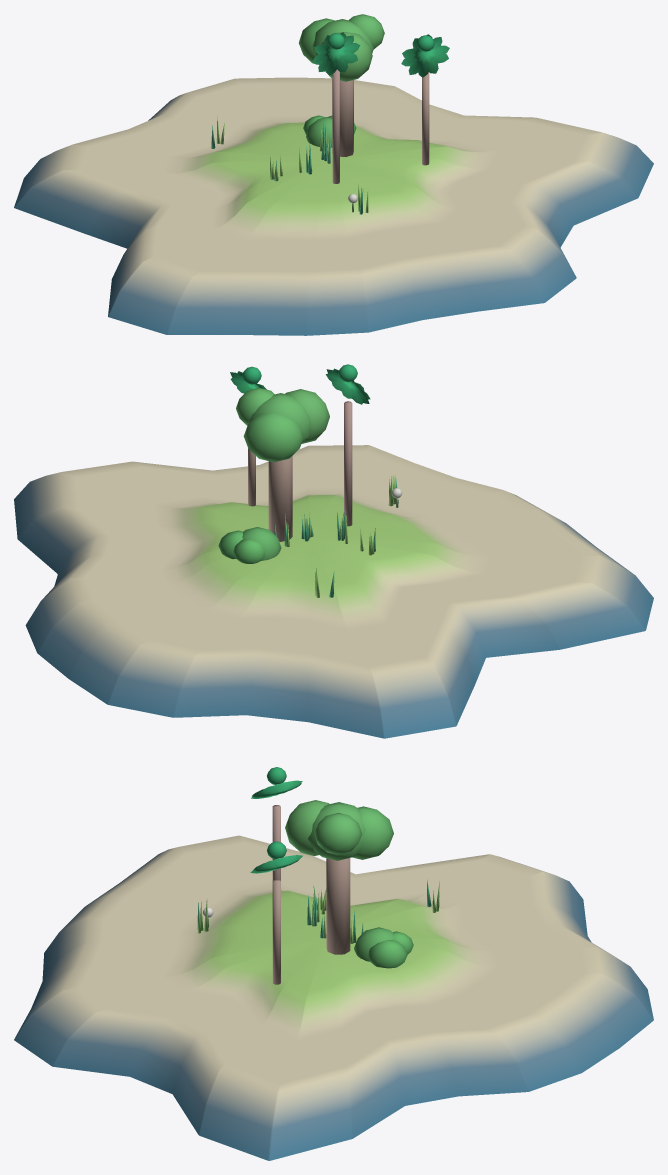
The model's file is terrain_island_06.glb.
The picture shows the model from 3 angles, top to bottom: view 1: azimuth 30°, elevation 25°; view 2: azimuth 150°, elevation 25°; view 3: azimuth 270°, elevation 25°; orthographic projection. The views are drawn at different scales.
Visible parts, largest first — view 1: island_terrain, veg_tree0_tree_trunk, veg_tree2_palm_trunk, veg_tree0_tree_crown_2, veg_tree0_tree_crown_c, veg_tree1_palm_trunk, veg_tree0_tree_crown_1, veg_shrub0_ball2, veg_tree0_tree_crown_0; view 2: island_terrain, veg_tree0_tree_crown_0, veg_tree0_tree_trunk, veg_tree0_tree_crown_c, veg_tree2_palm_trunk, veg_tree0_tree_crown_2, veg_tree0_tree_crown_1, veg_shrub0_ball2, veg_shrub0_ball0; view 3: island_terrain, veg_tree0_tree_trunk, veg_tree0_tree_crown_1, veg_tree0_tree_crown_0, veg_tree0_tree_crown_2, veg_tree0_tree_crown_c, veg_tree1_palm_trunk, veg_shrub0_ball1, veg_shrub0_ball2.
Boxes of the visible parts, <box> form: island_terrain: <box>14,77,653,335</box>; veg_tree0_tree_trunk: <box>332,79,353,156</box>; veg_tree2_palm_trunk: <box>332,69,339,183</box>; veg_tree0_tree_crown_2: <box>322,32,372,81</box>; veg_tree0_tree_crown_c: <box>312,19,373,56</box>; veg_tree1_palm_trunk: <box>422,72,429,165</box>; veg_tree0_tree_crown_1: <box>348,14,384,49</box>; veg_shrub0_ball2: <box>306,117,332,147</box>; veg_tree0_tree_crown_0: <box>299,18,334,64</box>; island_terrain: <box>14,445,653,738</box>; veg_tree0_tree_crown_0: <box>243,412,304,462</box>; veg_tree0_tree_trunk: <box>268,456,292,541</box>; veg_tree0_tree_crown_c: <box>247,393,310,442</box>; veg_tree2_palm_trunk: <box>344,401,352,526</box>; veg_tree0_tree_crown_2: <box>285,389,329,443</box>; veg_tree0_tree_crown_1: <box>236,387,274,425</box>; veg_shrub0_ball2: <box>242,527,281,560</box>; veg_shrub0_ball0: <box>233,539,265,563</box>; island_terrain: <box>14,835,653,1160</box>; veg_tree0_tree_trunk: <box>326,858,350,954</box>; veg_tree0_tree_crown_1: <box>314,812,362,854</box>; veg_tree0_tree_crown_0: <box>352,806,393,859</box>; veg_tree0_tree_crown_2: <box>285,800,329,855</box>; veg_tree0_tree_crown_c: <box>307,802,365,860</box>; veg_tree1_palm_trunk: <box>272,879,280,984</box>; veg_shrub0_ball1: <box>368,940,407,968</box>; veg_shrub0_ball2: <box>354,927,393,961</box>.
Bounding box in the file's own units: 172 × 58.9 × 152.
